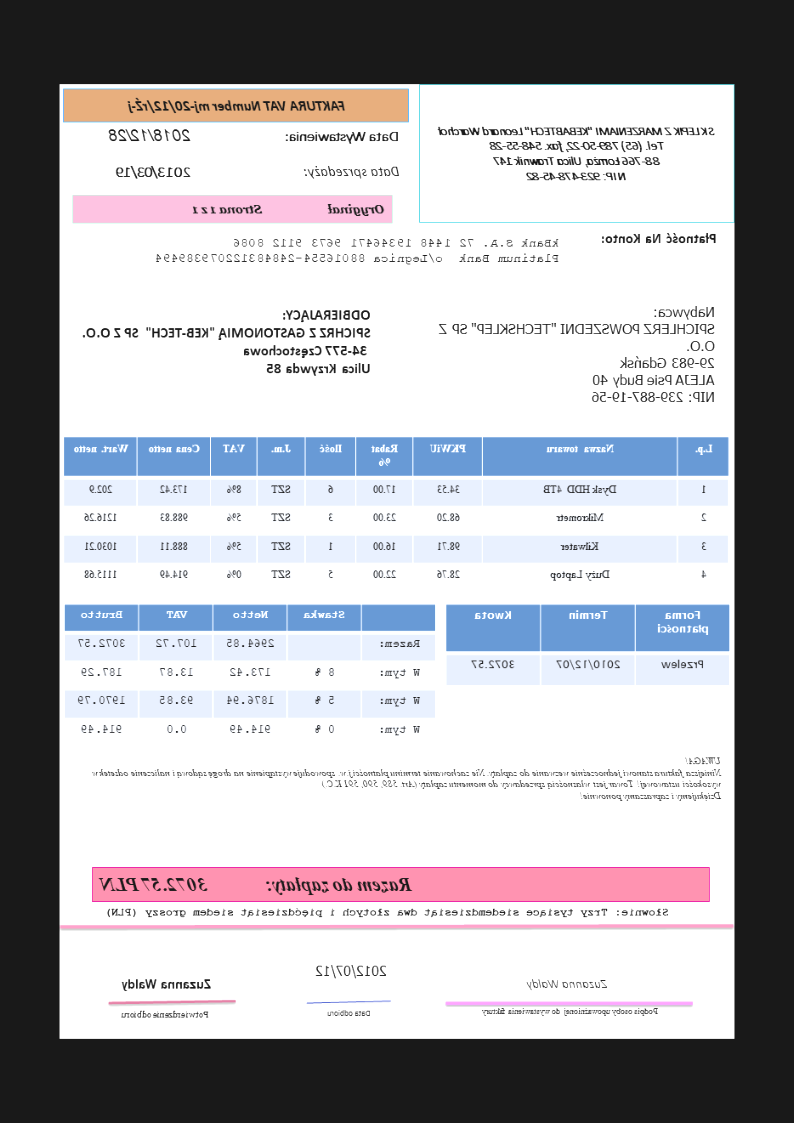Table: (61, 433, 731, 594), (62, 601, 438, 748), (445, 601, 731, 687)
TextBox: (88, 753, 723, 803), (436, 303, 717, 406), (80, 306, 375, 378), (434, 122, 717, 185), (152, 234, 563, 266), (105, 904, 672, 920), (96, 871, 416, 897), (124, 97, 348, 115), (190, 200, 387, 220), (479, 1003, 661, 1018), (282, 126, 402, 147), (300, 161, 405, 181), (598, 230, 719, 247), (118, 973, 215, 993), (106, 125, 193, 147), (119, 1005, 211, 1023), (524, 974, 612, 992), (314, 961, 392, 980), (113, 163, 195, 181), (325, 1004, 374, 1021)
